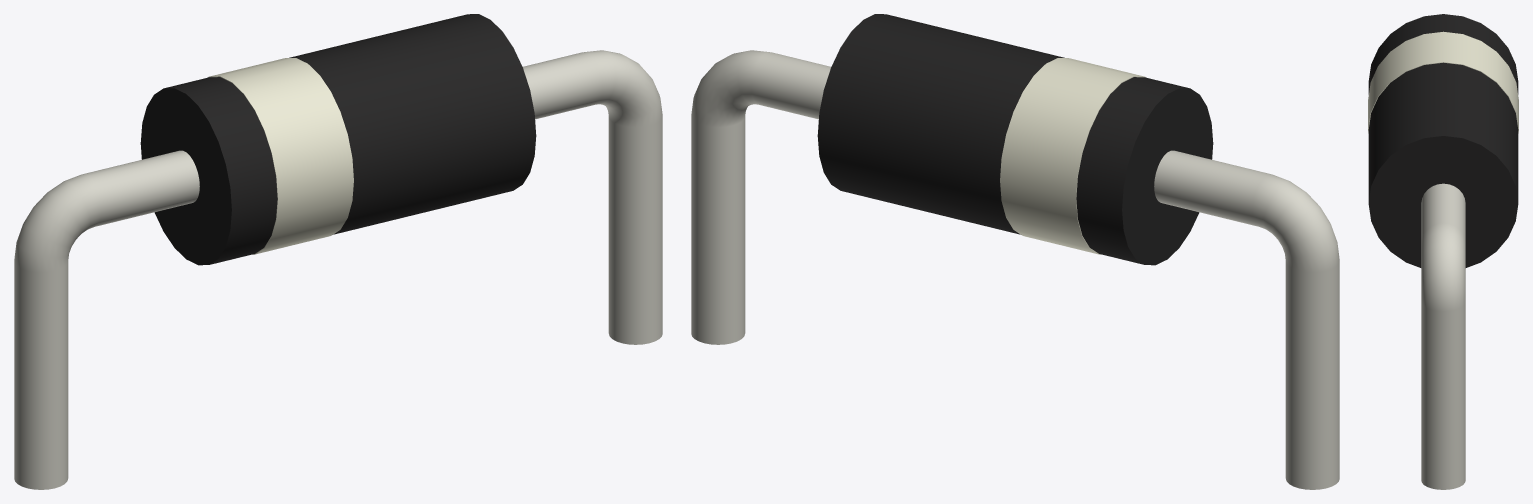
File: D_DO-41_SOD81_P10.16mm_Horizontal.glb
3 renders of one model, left to right at view 1: azimuth 30°, elevation 25°; view 2: azimuth 150°, elevation 25°; view 3: azimuth 270°, elevation 25°, orthographic. The views are drawn at different scales.
Visible parts, largest first — view 1: =>[0:1:1:3]; view 2: =>[0:1:1:3]; view 3: =>[0:1:1:3].
Part boxes in pixels (left/top/right/bottom): =>[0:1:1:3]: left=14, top=14, right=662, bottom=489; =>[0:1:1:3]: left=691, top=14, right=1339, bottom=489; =>[0:1:1:3]: left=1368, top=14, right=1518, bottom=489.
Bounding box in the file's own units: 0.011 × 0.00571 × 0.00272.
